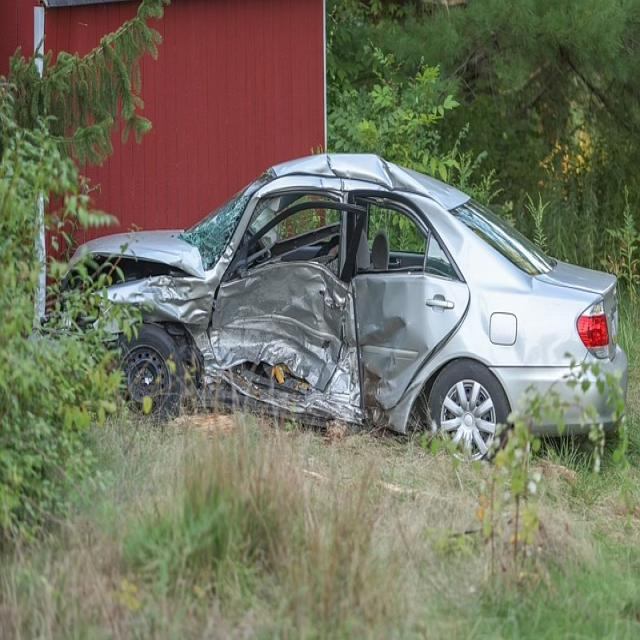Accident: (44, 150, 621, 462)
